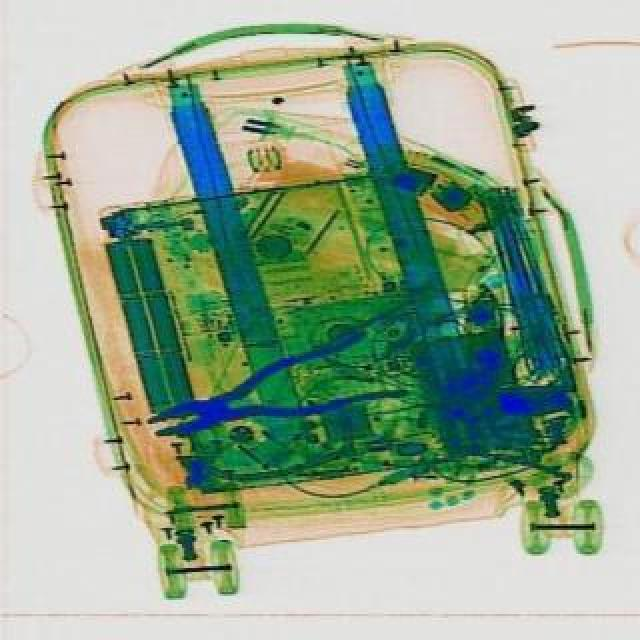wrench: (132, 324, 406, 470)
